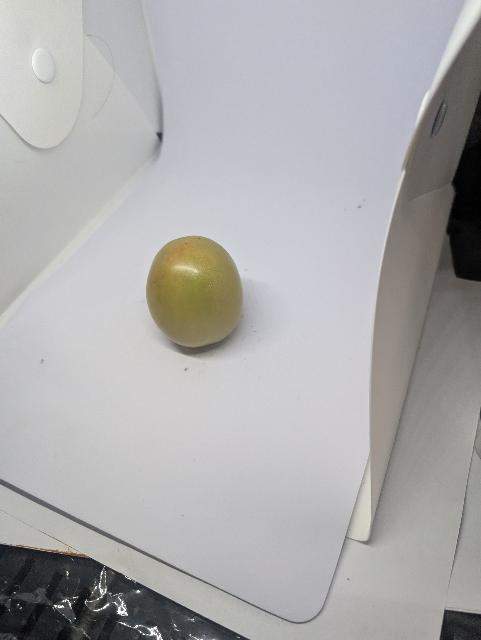breaker: (142, 234, 248, 350)
